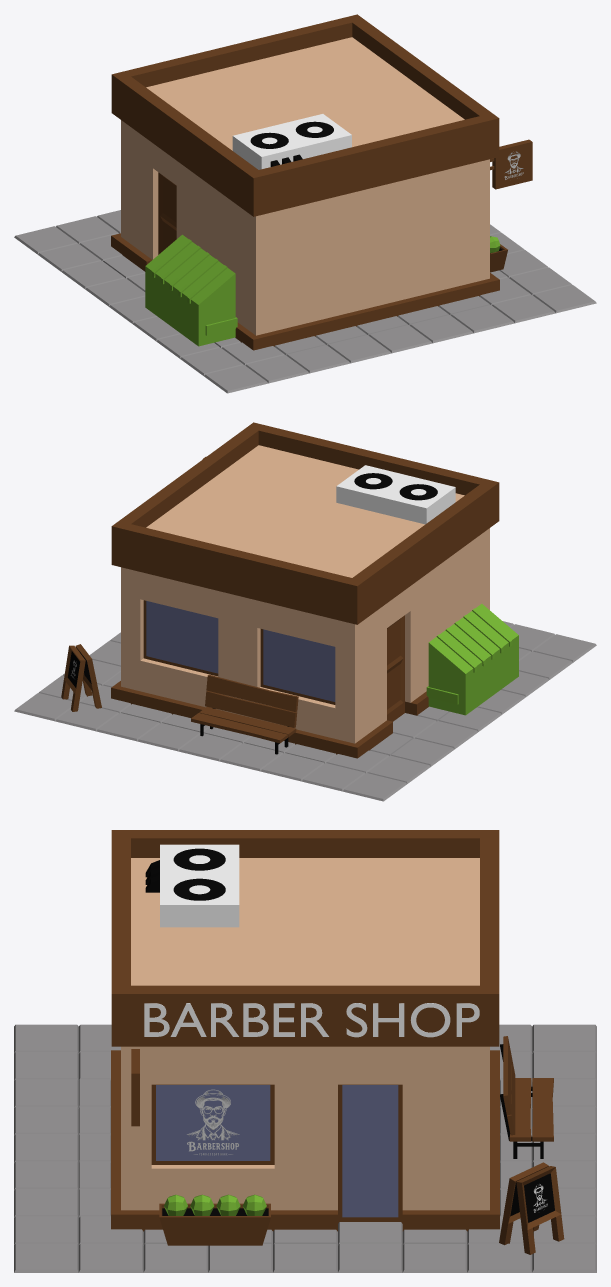
File: SimpleStore.fbx
3 views of the same model, one above another, from view 1: azimuth 30°, elevation 25°; view 2: azimuth 150°, elevation 25°; view 3: azimuth 270°, elevation 25° (orthographic). The views are drawn at different scales.
Visible parts, largest first — view 1: Building_A; view 2: Building_A; view 3: Building_A.
Boxes of the visible parts, x1,y1,x2,y2 form: Building_A: (14,14,596,393); Building_A: (14,422,596,801); Building_A: (14,830,596,1272).
Bounding box in the file's own units: 2000 × 910 × 2000.
